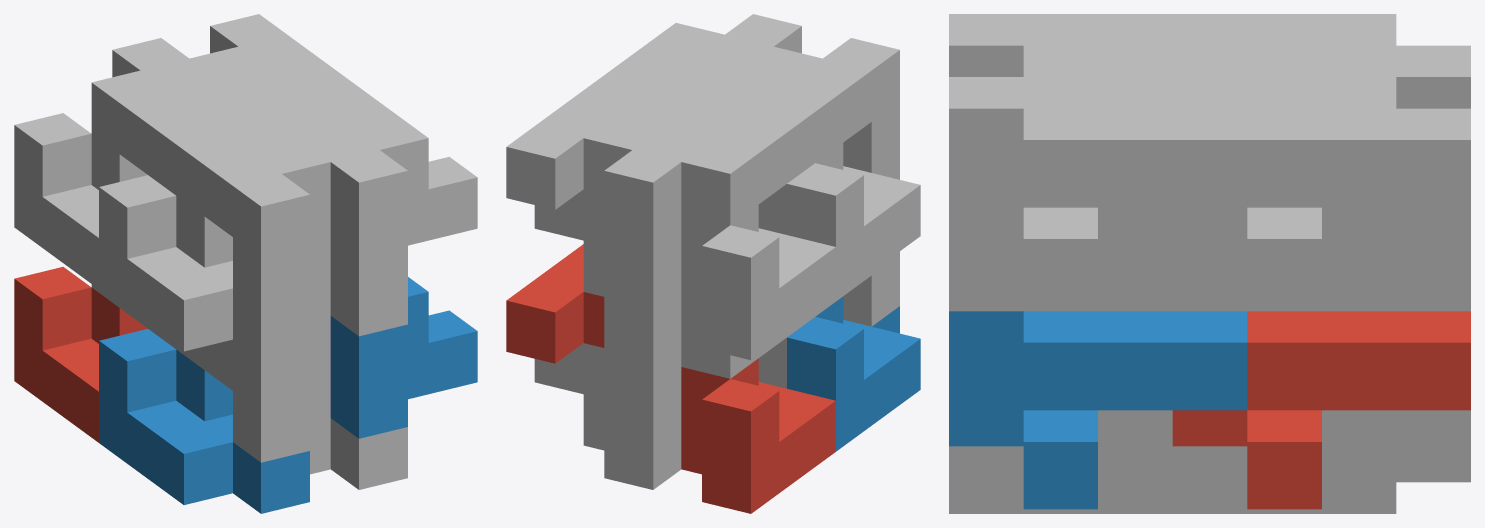
Rendered from tiling.obj.
The picture shows the model from 3 angles, left to right: view 1: azimuth 30°, elevation 25°; view 2: azimuth 150°, elevation 25°; view 3: azimuth 270°, elevation 25°; orthographic projection. The views are drawn at different scales.
Visible parts, largest first — view 1: copy_2_domain_8, copy_1_domain_4, copy_1_domain_2, copy_2_domain_4, copy_2_domain_6, copy_2_domain_3, copy_1_domain_3, copy_1_domain_1, copy_2_domain_2, copy_2_domain_7, copy_1_domain_6, copy_1_domain_8; view 2: copy_2_domain_3, copy_1_domain_3, copy_1_domain_1, copy_2_domain_4, copy_2_domain_7, copy_1_domain_4, copy_1_domain_2, copy_1_domain_7, copy_1_domain_5, copy_2_domain_8, copy_2_domain_5, copy_2_domain_1 (+1 smaller); view 3: copy_2_domain_8, copy_2_domain_6, copy_2_domain_7, copy_2_domain_5, copy_1_domain_7, copy_1_domain_5, copy_2_domain_3, copy_2_domain_4, copy_1_domain_8, copy_1_domain_6, copy_2_domain_1.
Part boxes in pixels (x1,y1,x2,y2): copy_2_domain_8: [275, 76, 477, 284]; copy_1_domain_4: [99, 175, 309, 360]; copy_1_domain_2: [99, 329, 309, 513]; copy_2_domain_4: [176, 100, 330, 308]; copy_2_domain_6: [330, 277, 477, 438]; copy_2_domain_3: [91, 38, 245, 195]; copy_1_domain_3: [14, 113, 147, 288]; copy_1_domain_1: [14, 267, 147, 442]; copy_2_domain_2: [176, 316, 330, 462]; copy_2_domain_7: [189, 14, 343, 120]; copy_1_domain_6: [310, 418, 407, 489]; copy_1_domain_8: [310, 264, 407, 336]; copy_2_domain_3: [604, 100, 815, 234]; copy_1_domain_3: [681, 205, 835, 359]; copy_1_domain_1: [681, 358, 835, 513]; copy_2_domain_4: [689, 38, 899, 172]; copy_2_domain_7: [506, 76, 716, 209]; copy_1_domain_4: [787, 143, 920, 297]; copy_1_domain_2: [787, 296, 920, 451]; copy_1_domain_7: [534, 189, 681, 336]; copy_1_domain_5: [534, 343, 681, 489]; copy_2_domain_8: [591, 14, 801, 96]; copy_2_domain_5: [506, 244, 604, 363]; copy_2_domain_1: [604, 313, 815, 388]; copy_2_domain_8: [949, 77, 1247, 306]; copy_2_domain_6: [949, 311, 1247, 509]; copy_2_domain_7: [1172, 77, 1470, 306]; copy_2_domain_5: [1172, 311, 1470, 509]; copy_1_domain_7: [1172, 207, 1470, 311]; copy_1_domain_5: [1172, 410, 1470, 513]; copy_2_domain_3: [1172, 14, 1470, 108]; copy_2_domain_4: [949, 14, 1247, 76]; copy_1_domain_8: [949, 207, 1172, 311]; copy_1_domain_6: [949, 410, 1172, 513]; copy_2_domain_1: [1396, 279, 1470, 311].
Size of the model in its own units: 6 by 6 by 7.
